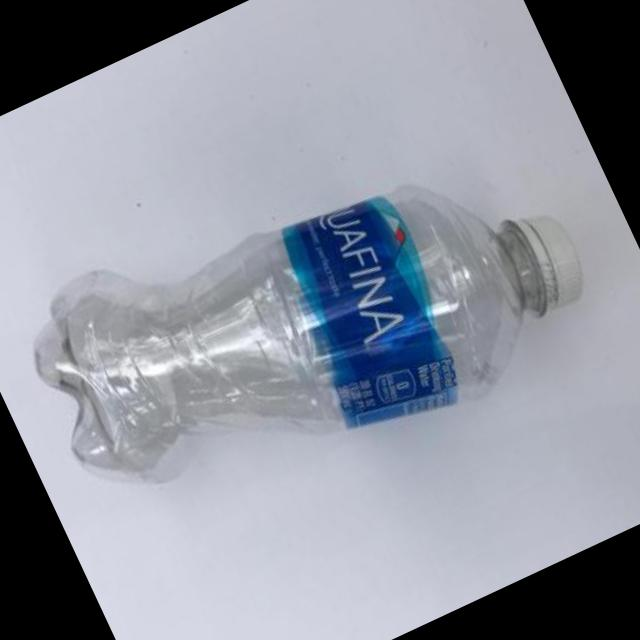BotolPlastik: (3, 78, 617, 566)
